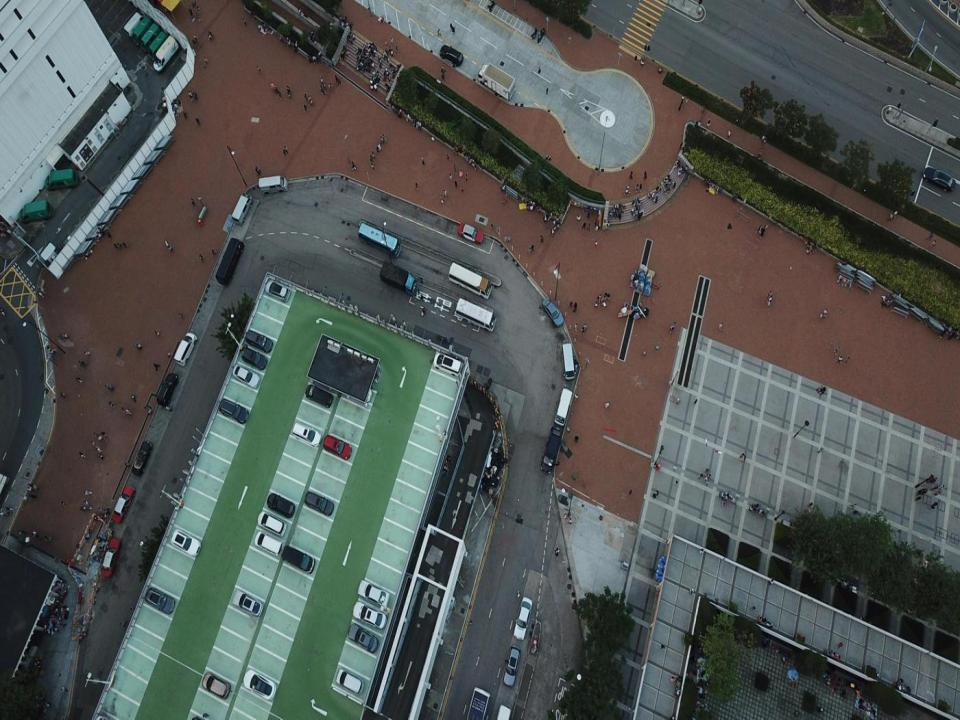bus: (448, 261, 492, 298), (454, 298, 496, 332), (359, 224, 401, 256)
car: (243, 669, 276, 702), (539, 426, 560, 476), (353, 601, 386, 630), (233, 588, 264, 617), (112, 485, 135, 524), (357, 580, 390, 607), (347, 624, 378, 652), (282, 546, 314, 573), (922, 167, 955, 193), (171, 529, 201, 557), (219, 398, 249, 426), (513, 596, 532, 640), (174, 332, 198, 366), (100, 537, 120, 577), (201, 672, 230, 699), (145, 588, 175, 614), (502, 645, 520, 688), (254, 531, 283, 557), (291, 422, 321, 447), (322, 435, 352, 460), (304, 491, 333, 516), (257, 512, 286, 537), (156, 373, 178, 405), (232, 363, 258, 390), (132, 440, 152, 475), (267, 493, 295, 518), (244, 330, 273, 354), (336, 669, 363, 694), (304, 386, 332, 410), (542, 297, 564, 326), (240, 347, 267, 369), (434, 356, 462, 376), (458, 222, 484, 243), (440, 44, 464, 66), (264, 282, 290, 302), (351, 381, 372, 403)
truck: (477, 63, 516, 101), (380, 262, 418, 294)
van: (215, 237, 244, 287), (152, 35, 178, 73), (44, 168, 79, 190), (554, 387, 572, 426), (19, 199, 52, 220), (232, 193, 252, 225), (147, 30, 167, 60), (258, 174, 287, 194), (123, 10, 142, 38), (132, 15, 151, 42), (140, 23, 158, 51), (562, 343, 575, 381)
